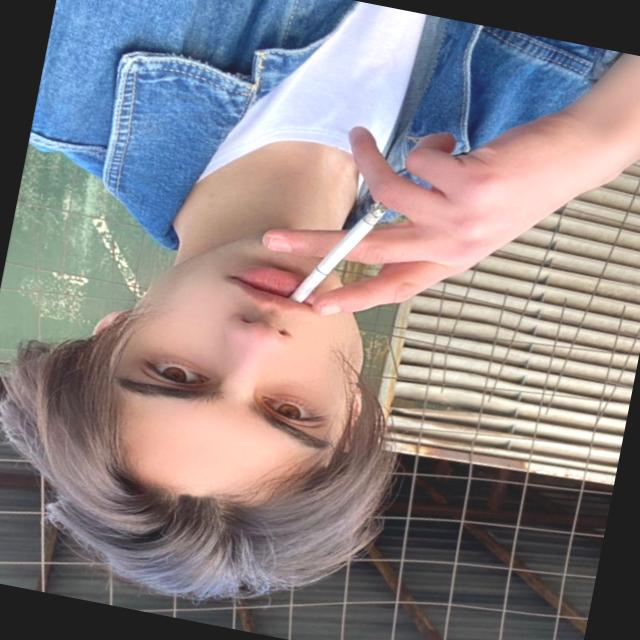smoke: (244, 140, 426, 363)
